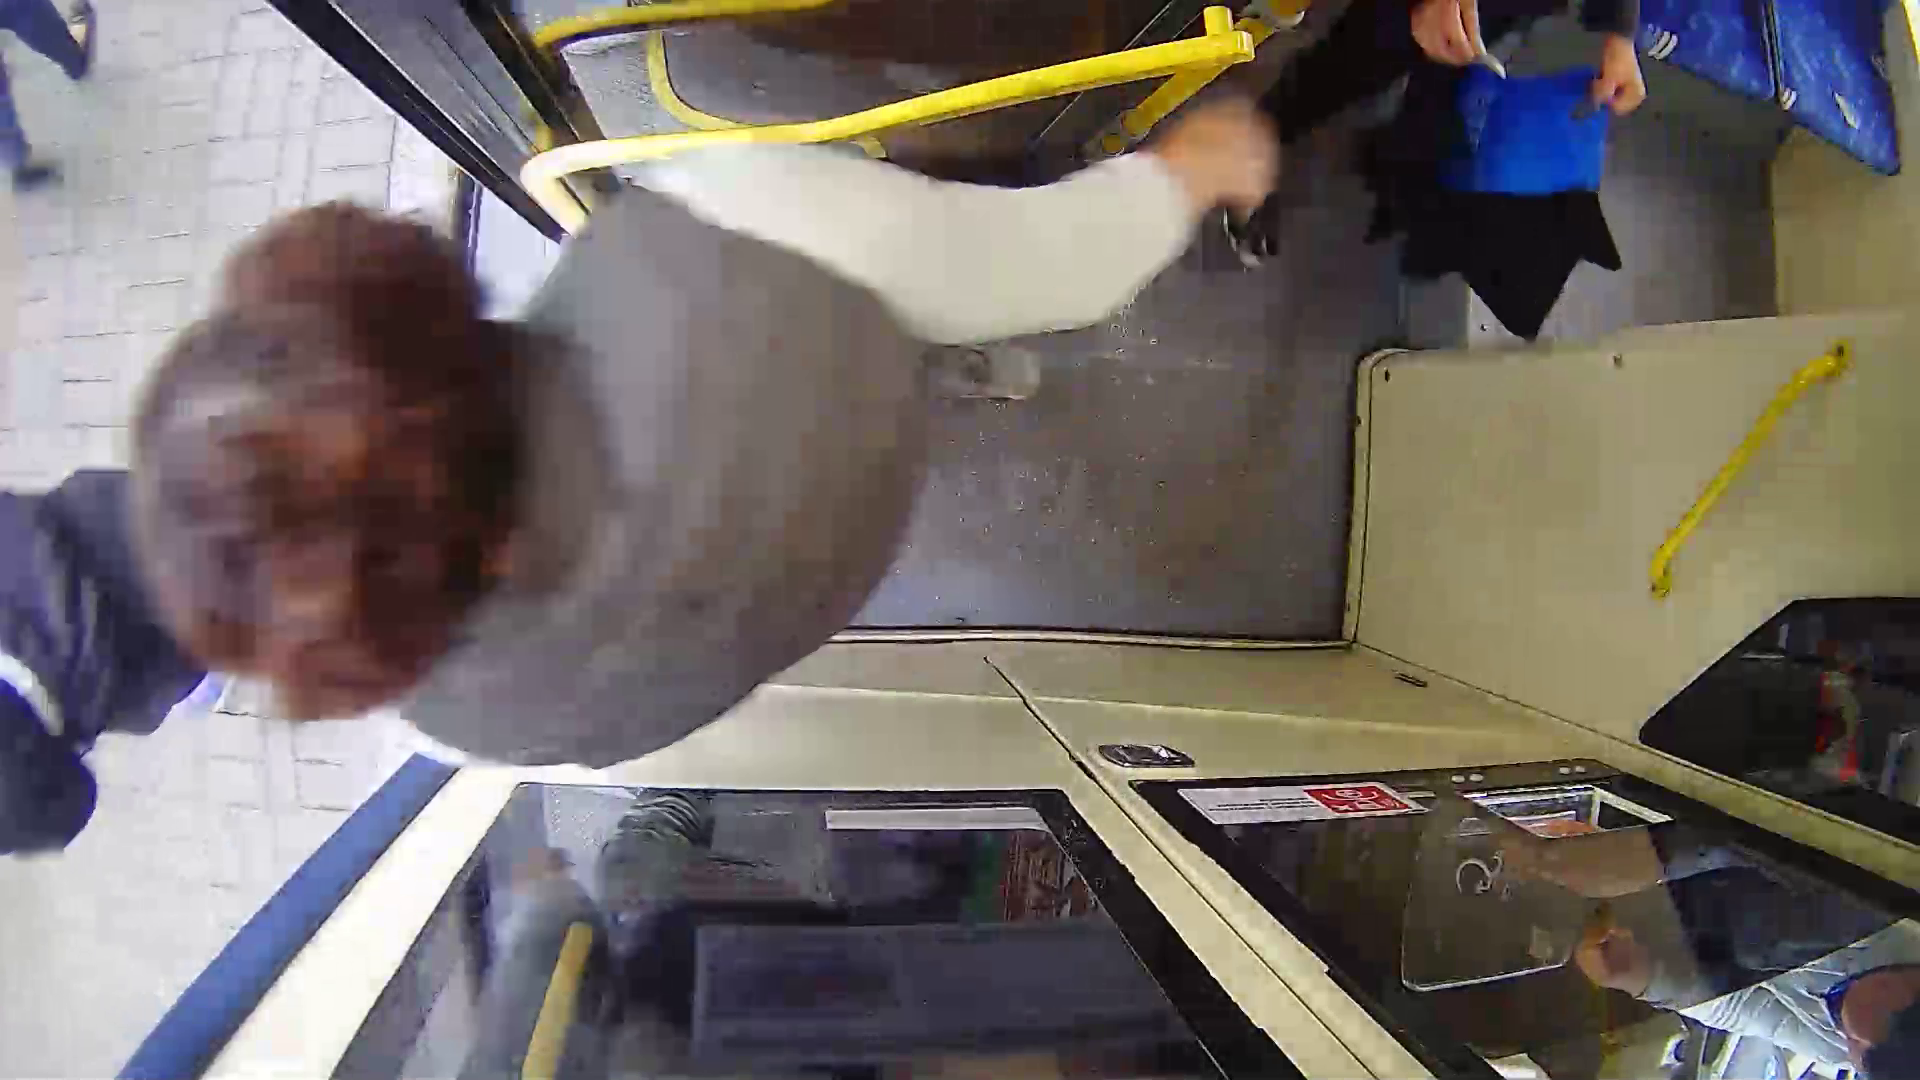person: (59, 247, 986, 817)
